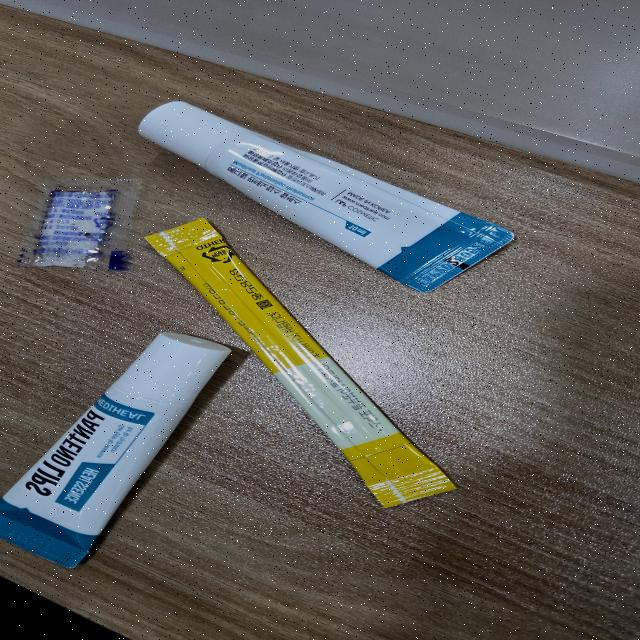lacto: (143, 215, 456, 510)
lib: (139, 101, 534, 295), (0, 332, 232, 570)
salt: (9, 175, 147, 272)
